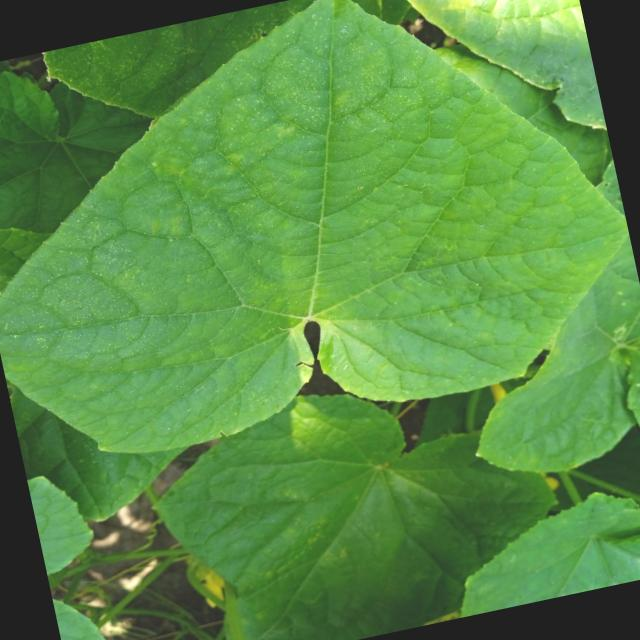cucumber_healthy: (0, 0, 640, 490), (132, 345, 583, 640), (429, 227, 640, 510), (390, 0, 606, 166), (429, 466, 640, 618)
